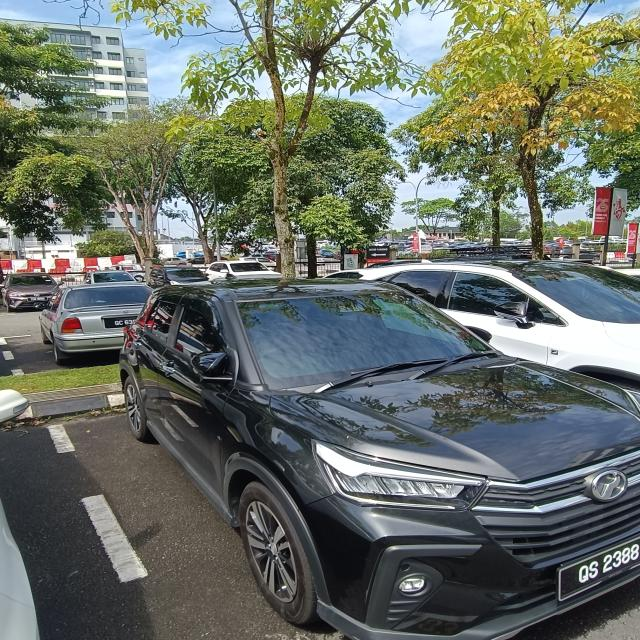PeroduaAtiva: (118, 275, 640, 638)
